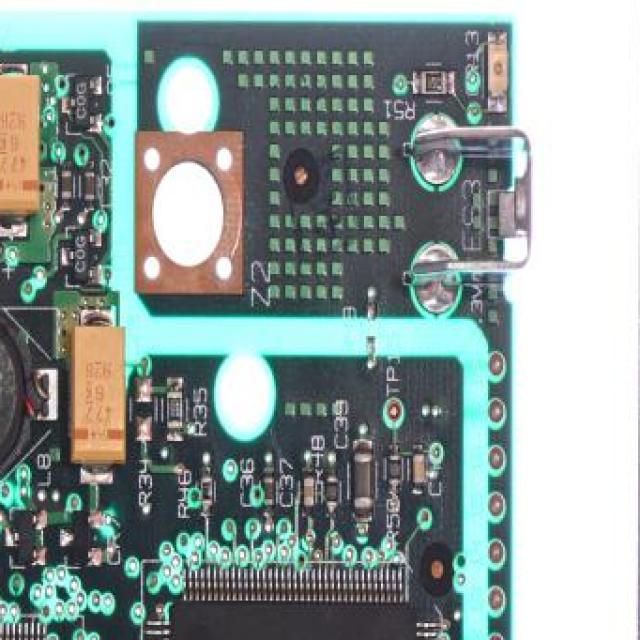IC: (164, 593, 420, 640)
capacitor: (70, 325, 128, 467), (0, 73, 41, 214), (351, 449, 374, 514), (411, 452, 426, 490), (60, 169, 74, 204), (82, 169, 96, 204), (302, 475, 316, 510), (263, 475, 276, 510)
diode: (71, 508, 91, 566)
inductor: (0, 310, 60, 482)
resistor: (165, 390, 185, 432), (420, 70, 448, 98), (388, 454, 402, 490), (199, 476, 213, 511), (324, 477, 338, 512)
transistor: (69, 227, 91, 287), (71, 73, 92, 134), (17, 508, 37, 568)
